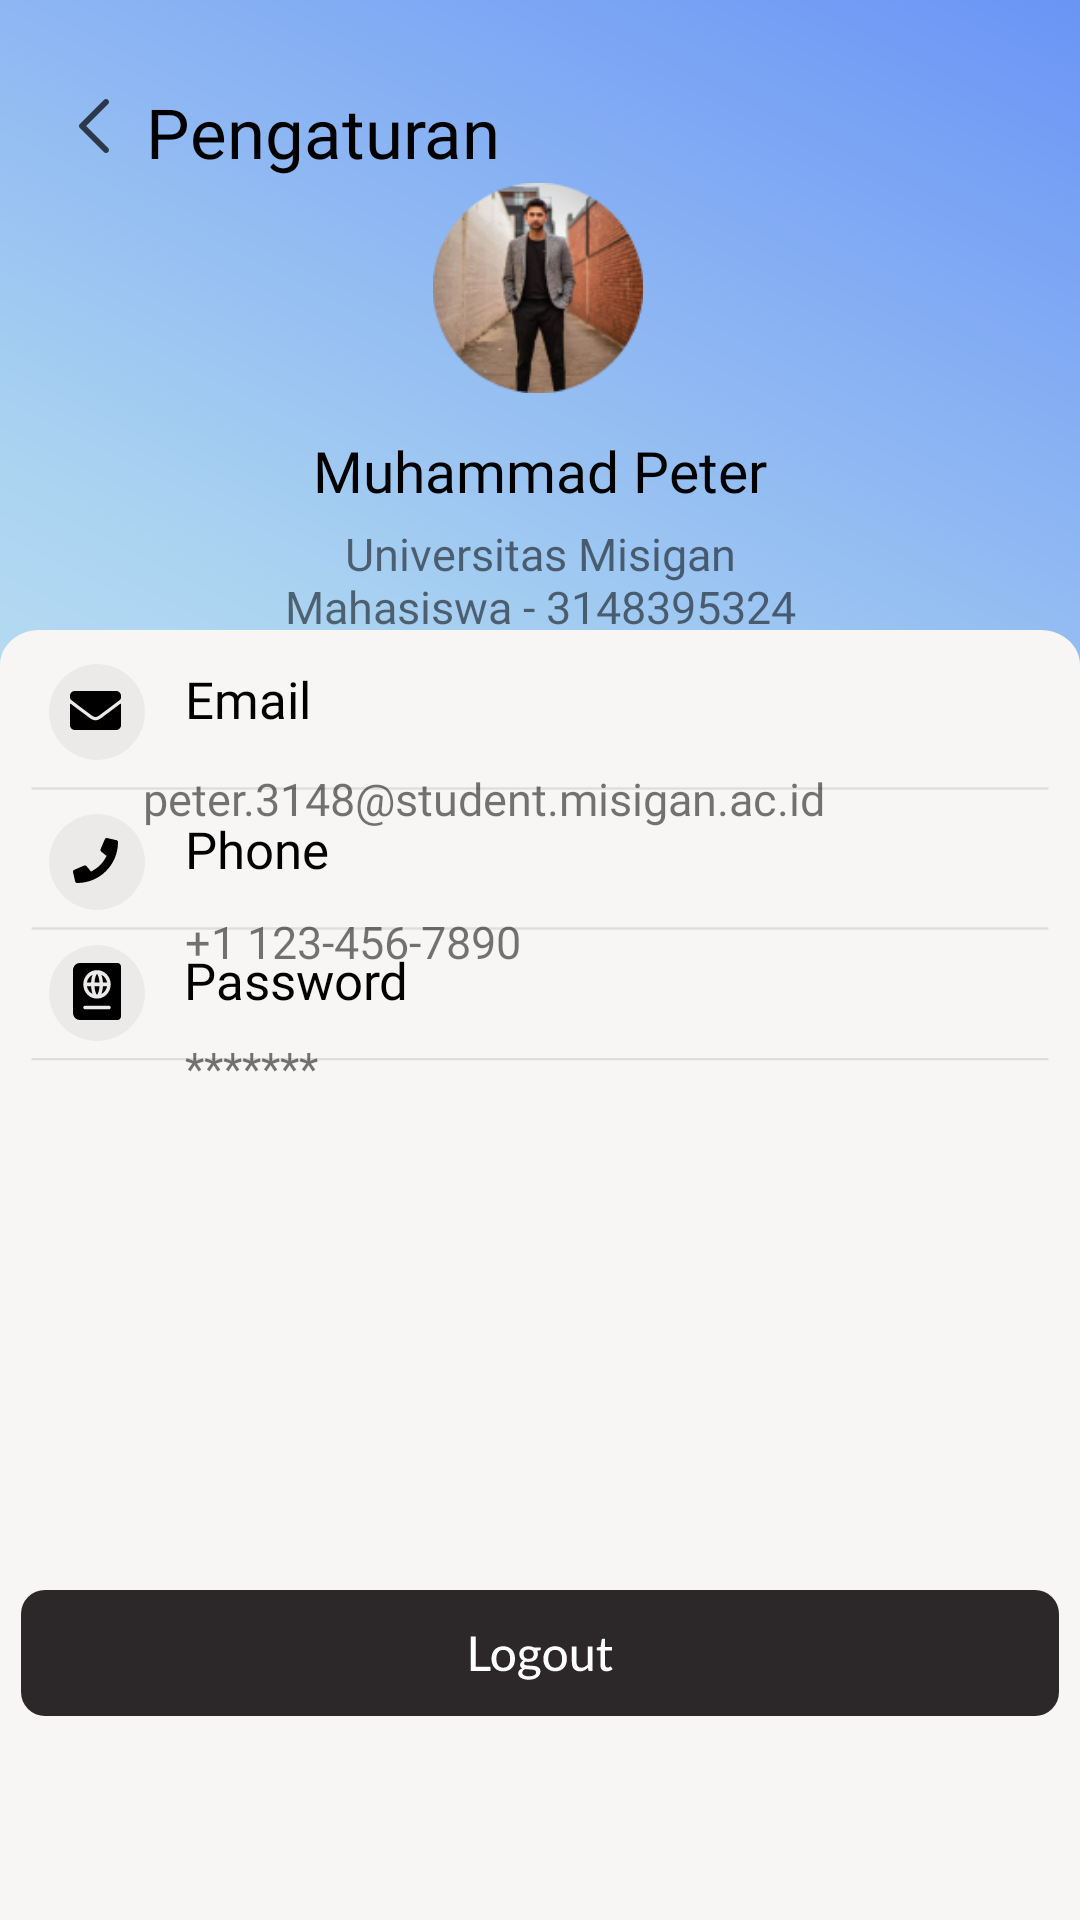

Screen size 1080×1920. Icon name, then its center in pixels as (x,y):
back: (94,126)
foto profil: (538,288)
